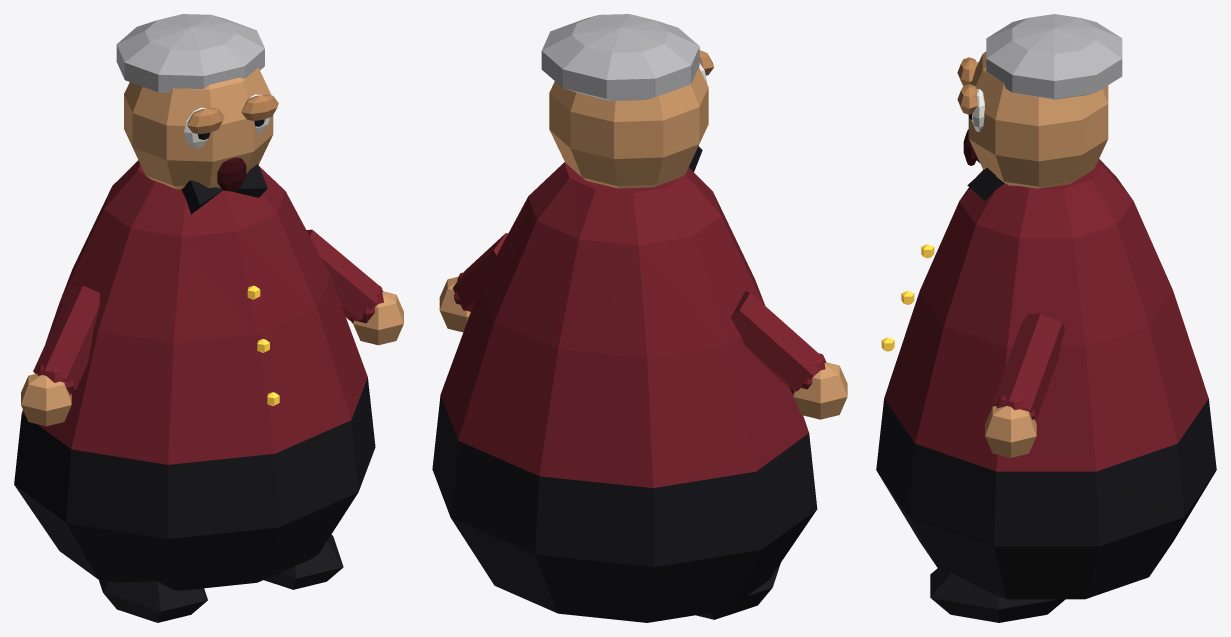
File: npc_conserje.glb
The picture shows the model from 3 angles, left to right: view 1: azimuth 30°, elevation 25°; view 2: azimuth 150°, elevation 25°; view 3: azimuth 270°, elevation 25°; orthographic projection. The views are drawn at different scales.
Parts seen in each view (by area): view 1: body_concierge_jacket, body_black, head_skin_arena, head_hair_gray, arms_concierge_jacket, legs_black, arms_skin_arena, face_eyelid (×2), yawn_mouth; view 2: body_concierge_jacket, body_black, head_skin_arena, head_hair_gray, arms_concierge_jacket, arms_skin_arena, legs_black; view 3: body_concierge_jacket, body_black, head_skin_arena, head_hair_gray, arms_concierge_jacket, legs_black, arms_skin_arena, body_gold, face_eyelid.
Boxes of the visible parts, x1,y1,x2,y2 form: body_concierge_jacket: [22, 160, 367, 464]; body_black: [14, 164, 375, 590]; head_skin_arena: [124, 68, 273, 189]; head_hair_gray: [116, 14, 264, 92]; arms_concierge_jacket: [33, 229, 383, 395]; legs_black: [99, 534, 343, 622]; arms_skin_arena: [21, 291, 403, 426]; face_eyelid (×2): [187, 94, 278, 134]; yawn_mouth: [217, 157, 246, 191]; body_concierge_jacket: [440, 162, 808, 487]; body_black: [432, 146, 817, 622]; head_skin_arena: [549, 67, 708, 188]; head_hair_gray: [541, 14, 699, 101]; arms_concierge_jacket: [452, 233, 826, 393]; arms_skin_arena: [439, 276, 847, 419]; legs_black: [696, 563, 780, 619]; body_concierge_jacket: [884, 159, 1208, 471]; body_black: [876, 157, 1216, 599]; head_skin_arena: [968, 51, 1108, 188]; head_hair_gray: [986, 14, 1122, 99]; arms_concierge_jacket: [993, 313, 1065, 420]; legs_black: [930, 568, 1065, 622]; arms_skin_arena: [985, 405, 1036, 457]; body_gold: [881, 244, 934, 351]; face_eyelid: [957, 84, 977, 114].
Bounding box in the file's own units: 1.13 × 1.54 × 0.86.
